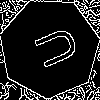U: (24, 23, 81, 75)
